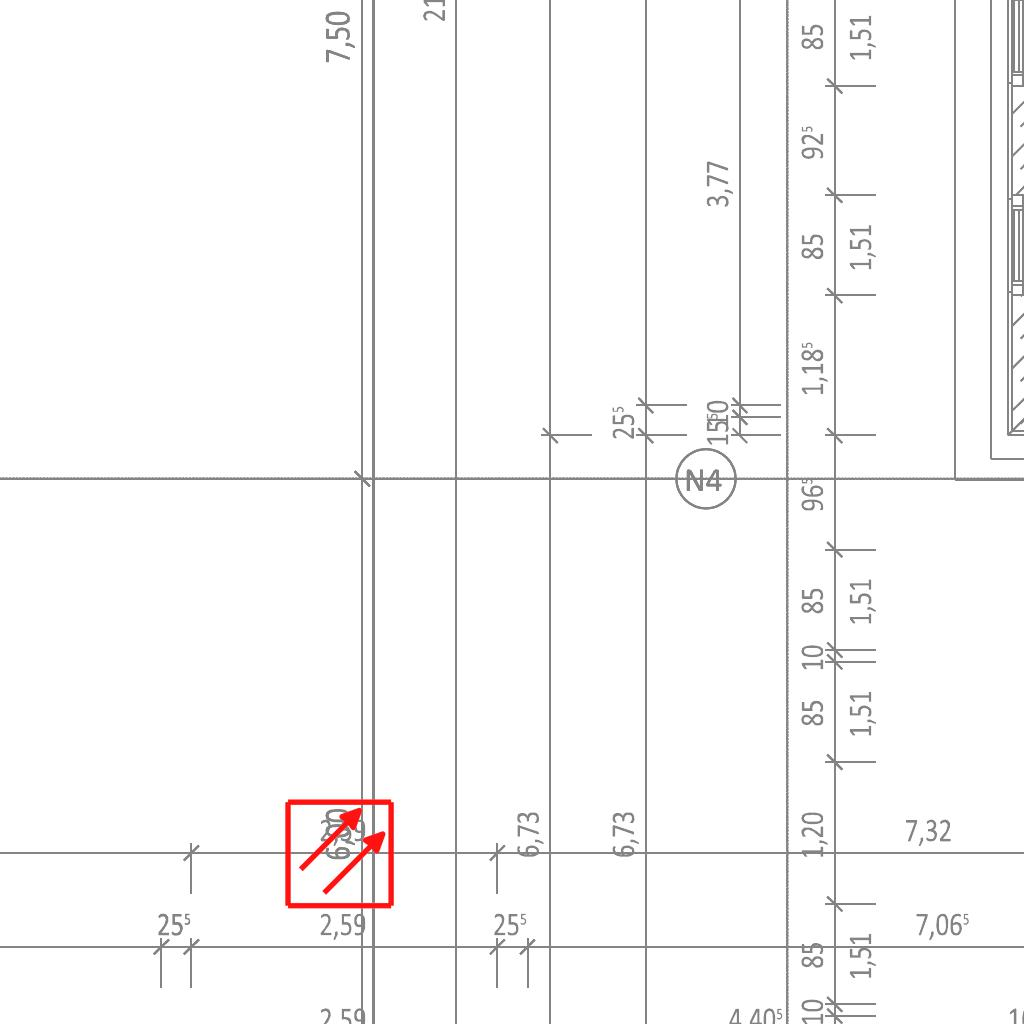RMO_Rauchmelder_optischer: (283, 797, 396, 910)
